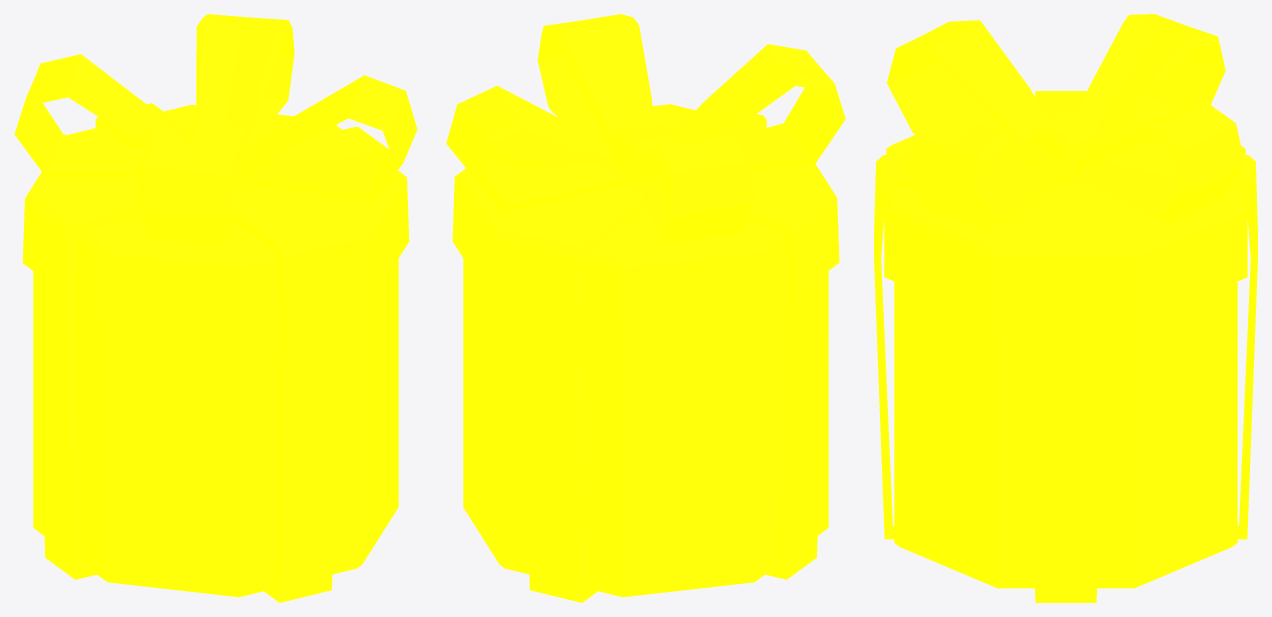
The model's file is gift-christmas-cylinder-c.glb.
3 views of the same model, side by side, from view 1: azimuth 30°, elevation 25°; view 2: azimuth 150°, elevation 25°; view 3: azimuth 270°, elevation 25° (orthographic).
Visible parts, largest first — view 1: gift_christmas_cylinder_c; view 2: gift_christmas_cylinder_c; view 3: gift_christmas_cylinder_c.
Part boxes in pixels (left/top/right/bottom): gift_christmas_cylinder_c: left=14, top=14, right=417, bottom=602; gift_christmas_cylinder_c: left=446, top=14, right=845, bottom=602; gift_christmas_cylinder_c: left=874, top=14, right=1257, bottom=602.
Bounding box in the file's own units: 0.2762 × 0.3609 × 0.2762.
Materials: 1 (1 with a texture image).
